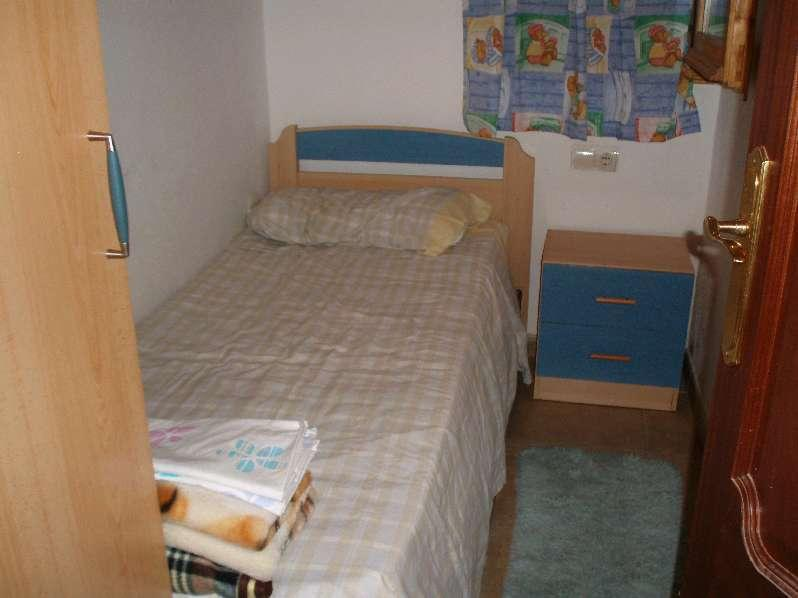Cama: (139, 144, 536, 595)
